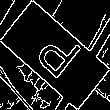P_SW: (27, 24, 83, 86)
